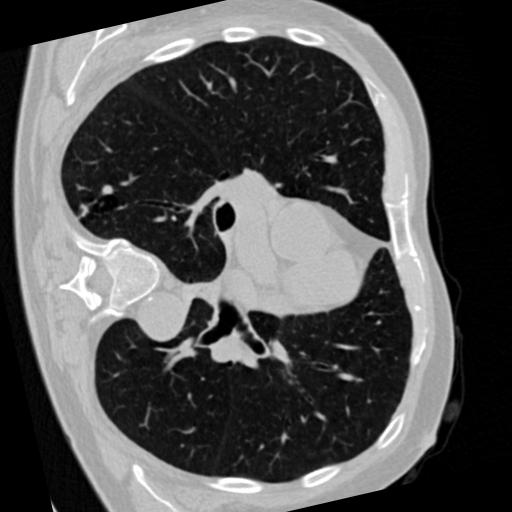nodule: (98, 181, 118, 201)
